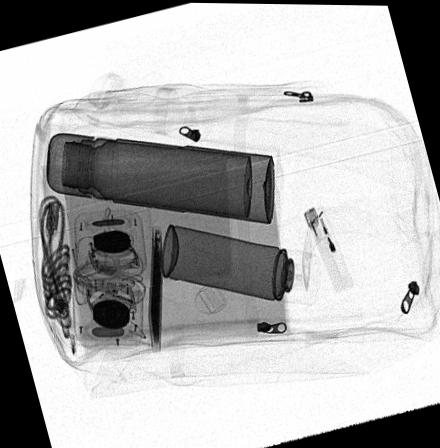Lighter: (305, 204, 355, 292)
Powerbank: (147, 227, 163, 352)
Sprayer: (161, 223, 323, 307)
